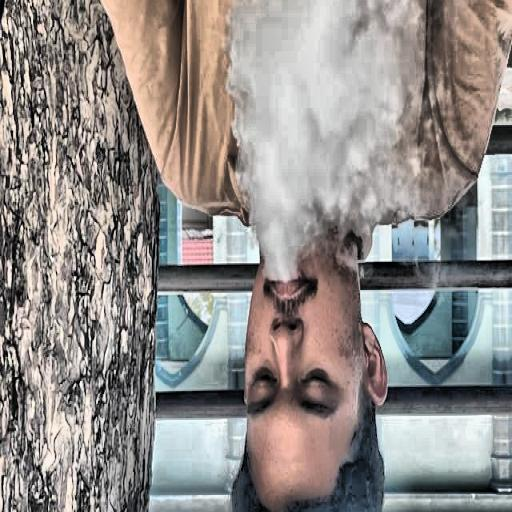Rokok: (104, 0, 512, 512)
